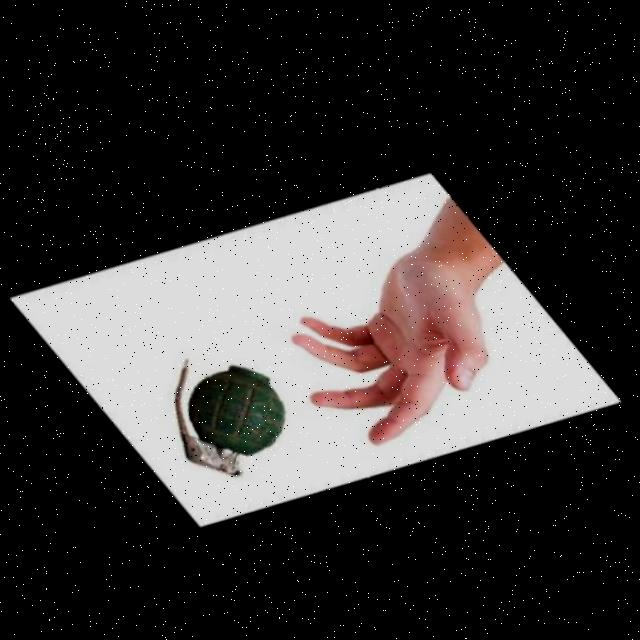grenade: (142, 336, 300, 493)
